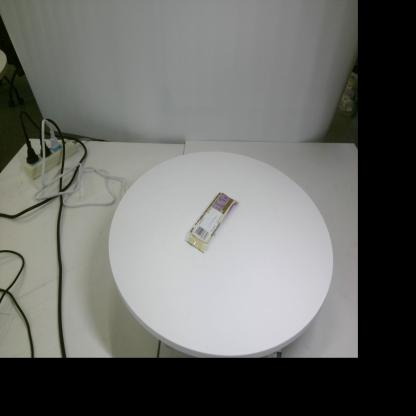Chocolate: (185, 192, 239, 254)
